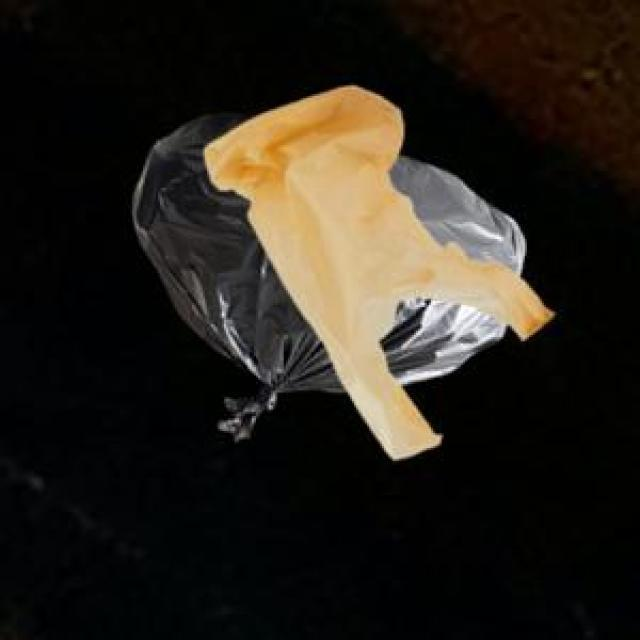miscellaneous trash: (128, 109, 521, 435)
